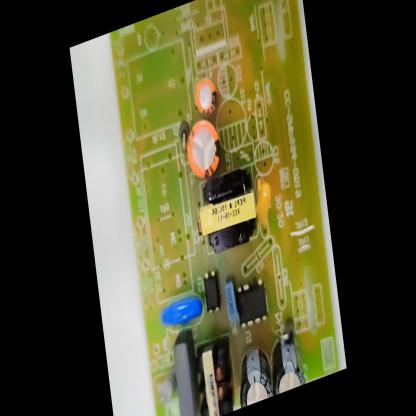Cap1: (182, 112, 225, 186)
Cap2: (191, 71, 220, 121)
Cap3: (232, 338, 275, 408)
Cap4: (266, 325, 308, 396)
MOSFET: (233, 271, 272, 334)
Mov: (156, 286, 207, 338)
Resistor: (155, 368, 178, 410)
Transformer: (195, 163, 261, 262), (192, 333, 235, 416)
